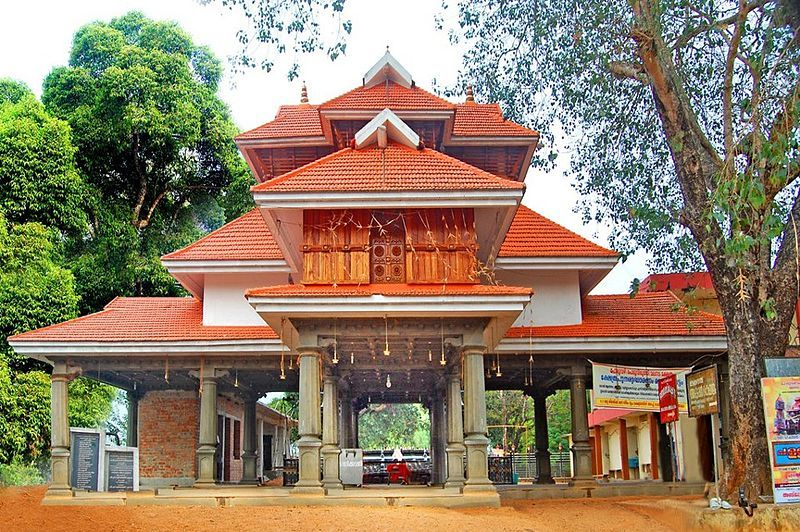Temple: (10, 56, 750, 509)
